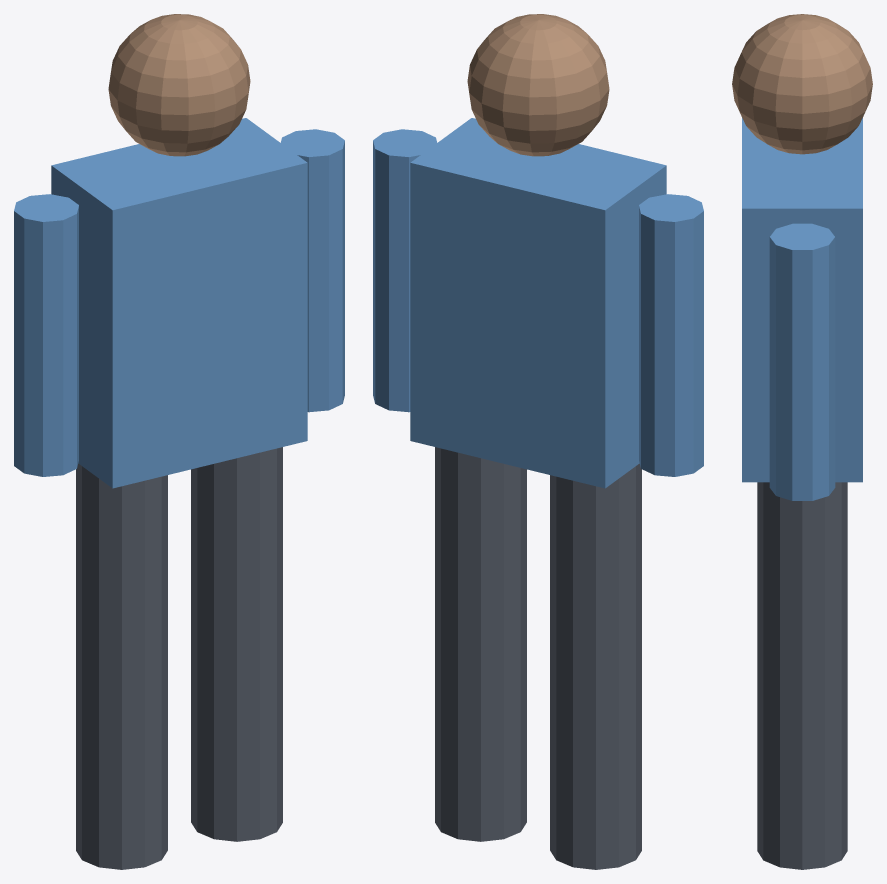
The model's file is player_default_clean.glb.
The picture shows the model from 3 angles, left to right: view 1: azimuth 30°, elevation 25°; view 2: azimuth 150°, elevation 25°; view 3: azimuth 270°, elevation 25°; orthographic projection.
Parts seen in each view (by area): view 1: Cube, Cylinder, Cylinder.001, Cylinder.002, Sphere, Cylinder.003; view 2: Cube, Cylinder, Cylinder.001, Cylinder.002, Sphere, Cylinder.003; view 3: Cylinder.001, Cube, Cylinder.003, Sphere.
Part boxes in pixels (x1,y1,x2,y2): Cube: [51, 118, 307, 488]; Cylinder: [76, 463, 167, 869]; Cylinder.001: [191, 447, 282, 841]; Cylinder.002: [14, 194, 78, 476]; Sphere: [108, 14, 250, 156]; Cylinder.003: [280, 129, 344, 412]; Cube: [410, 118, 666, 488]; Cylinder: [550, 463, 641, 869]; Cylinder.001: [435, 447, 526, 841]; Cylinder.002: [639, 194, 703, 476]; Sphere: [467, 14, 609, 156]; Cylinder.003: [373, 129, 437, 412]; Cylinder.001: [757, 482, 847, 869]; Cube: [742, 118, 862, 482]; Cylinder.003: [769, 223, 835, 500]; Sphere: [732, 14, 872, 154].
Bounding box in the file's own units: 0.7236 × 1.76 × 0.28.
